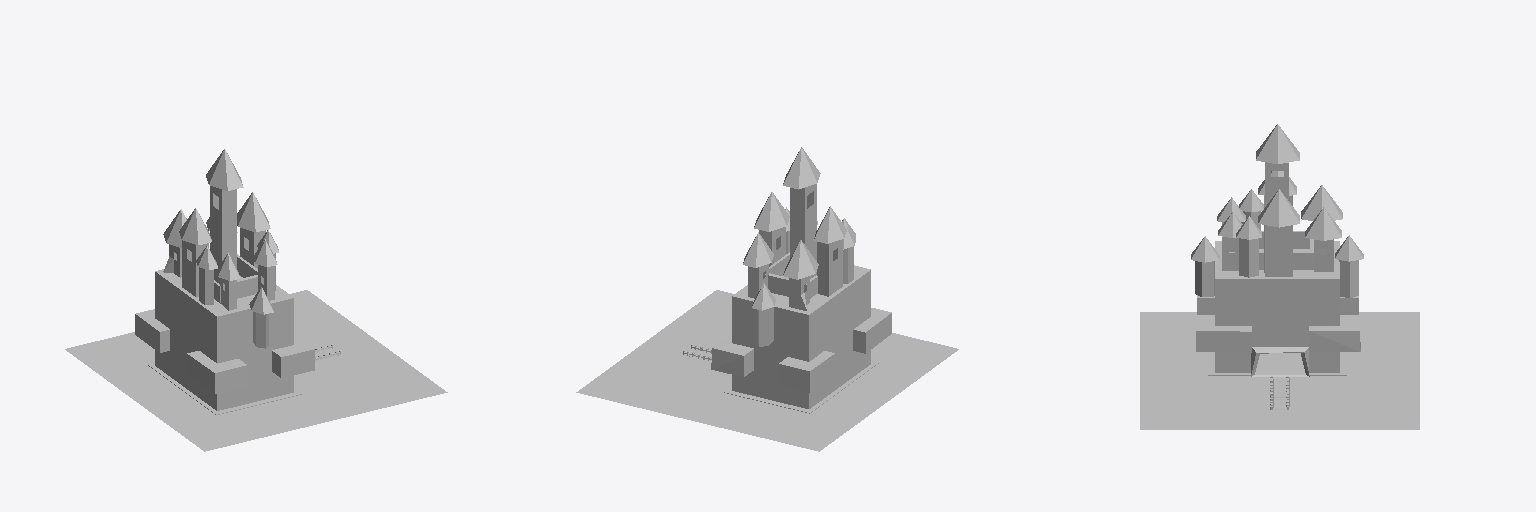
Rendered from castillo.obj.
The picture shows the model from 3 angles: view 1: azimuth 30°, elevation 25°; view 2: azimuth 150°, elevation 25°; view 3: azimuth 270°, elevation 25°; orthographic projection.
Parts seen in each view (by area): view 1: tierra, pCube1 castillo, castillo pCube35, tejas pCone1, castillo pPlane2, tejas pCone2, tejas pCone3, castillo pCylinder5, castillo pCylinder4; view 2: tierra, pCube1 castillo, castillo pCube35, tejas pCone1, castillo pPlane2, tejas pCone2, tejas pCone5, tejas pCone3, tejas teja4, castillo pCylinder6; view 3: tierra, pCube1 castillo, tejas pCone1, tejas pCone2, castillo pPlane2, tejas pCone5, castillo pCube35, tejas teja4, castillo pCylinder1, castillo pCylinder5, castillo pCylinder6, tejas puente.
Boxes of the visible parts, box(x1,y1,x2,y2) form: tierra: box(65, 290, 447, 451); pCube1 castillo: box(135, 228, 314, 414); castillo pCube35: box(210, 186, 236, 283); tejas pCone1: box(206, 149, 243, 190); castillo pPlane2: box(214, 254, 263, 302); tejas pCone2: box(237, 192, 270, 232); tejas pCone3: box(179, 208, 211, 245); castillo pCylinder5: box(253, 312, 268, 348); castillo pCylinder4: box(199, 267, 213, 304); tierra: box(576, 290, 958, 451); pCube1 castillo: box(711, 227, 891, 413); castillo pCube35: box(790, 184, 816, 278); tejas pCone1: box(783, 147, 820, 189); castillo pPlane2: box(763, 252, 817, 298); tejas pCone2: box(754, 192, 789, 231); tejas pCone5: box(783, 240, 818, 279); tejas pCone3: box(814, 206, 846, 243); tejas teja4: box(743, 232, 773, 267); castillo pCylinder6: box(758, 307, 773, 346); tierra: box(1140, 312, 1419, 429); pCube1 castillo: box(1196, 195, 1360, 376); tejas pCone1: box(1256, 124, 1299, 163); tejas pCone2: box(1258, 189, 1299, 227); castillo pPlane2: box(1259, 231, 1313, 269); tejas pCone5: box(1301, 185, 1342, 220); castillo pCube35: box(1265, 162, 1288, 241); tejas teja4: box(1305, 207, 1341, 240); castillo pCylinder1: box(1239, 238, 1258, 277); castillo pCylinder5: box(1195, 261, 1214, 296); castillo pCylinder6: box(1339, 260, 1358, 297); tejas puente: box(1270, 376, 1289, 409).
Size of the model in its own units: 1476 by 1351 by 1476.